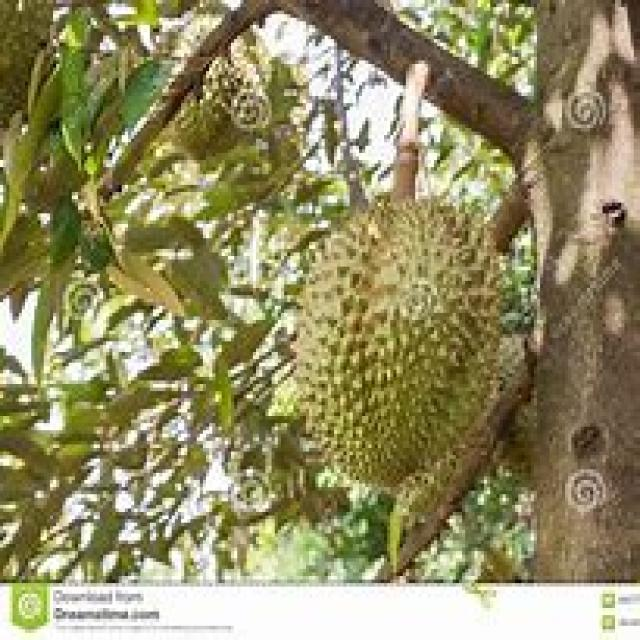mature: (299, 202, 498, 486)
